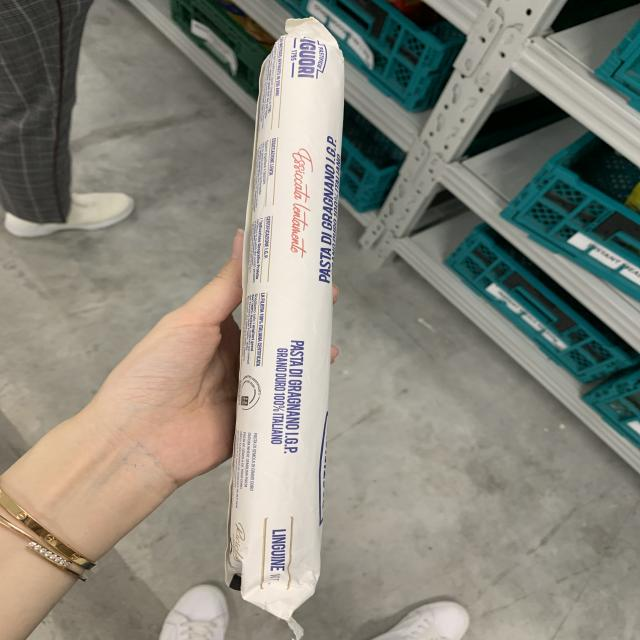object_name: (248, 30, 333, 610)
